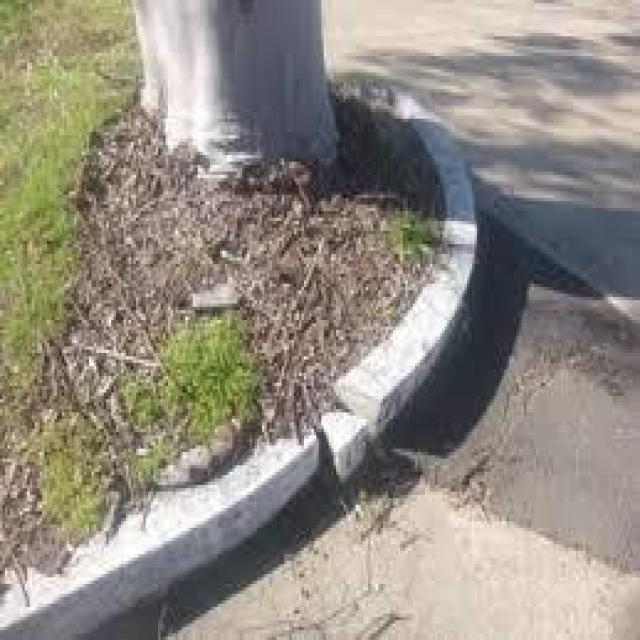curb: (165, 392, 350, 578), (400, 100, 495, 330), (1, 509, 145, 640), (356, 318, 449, 472)
